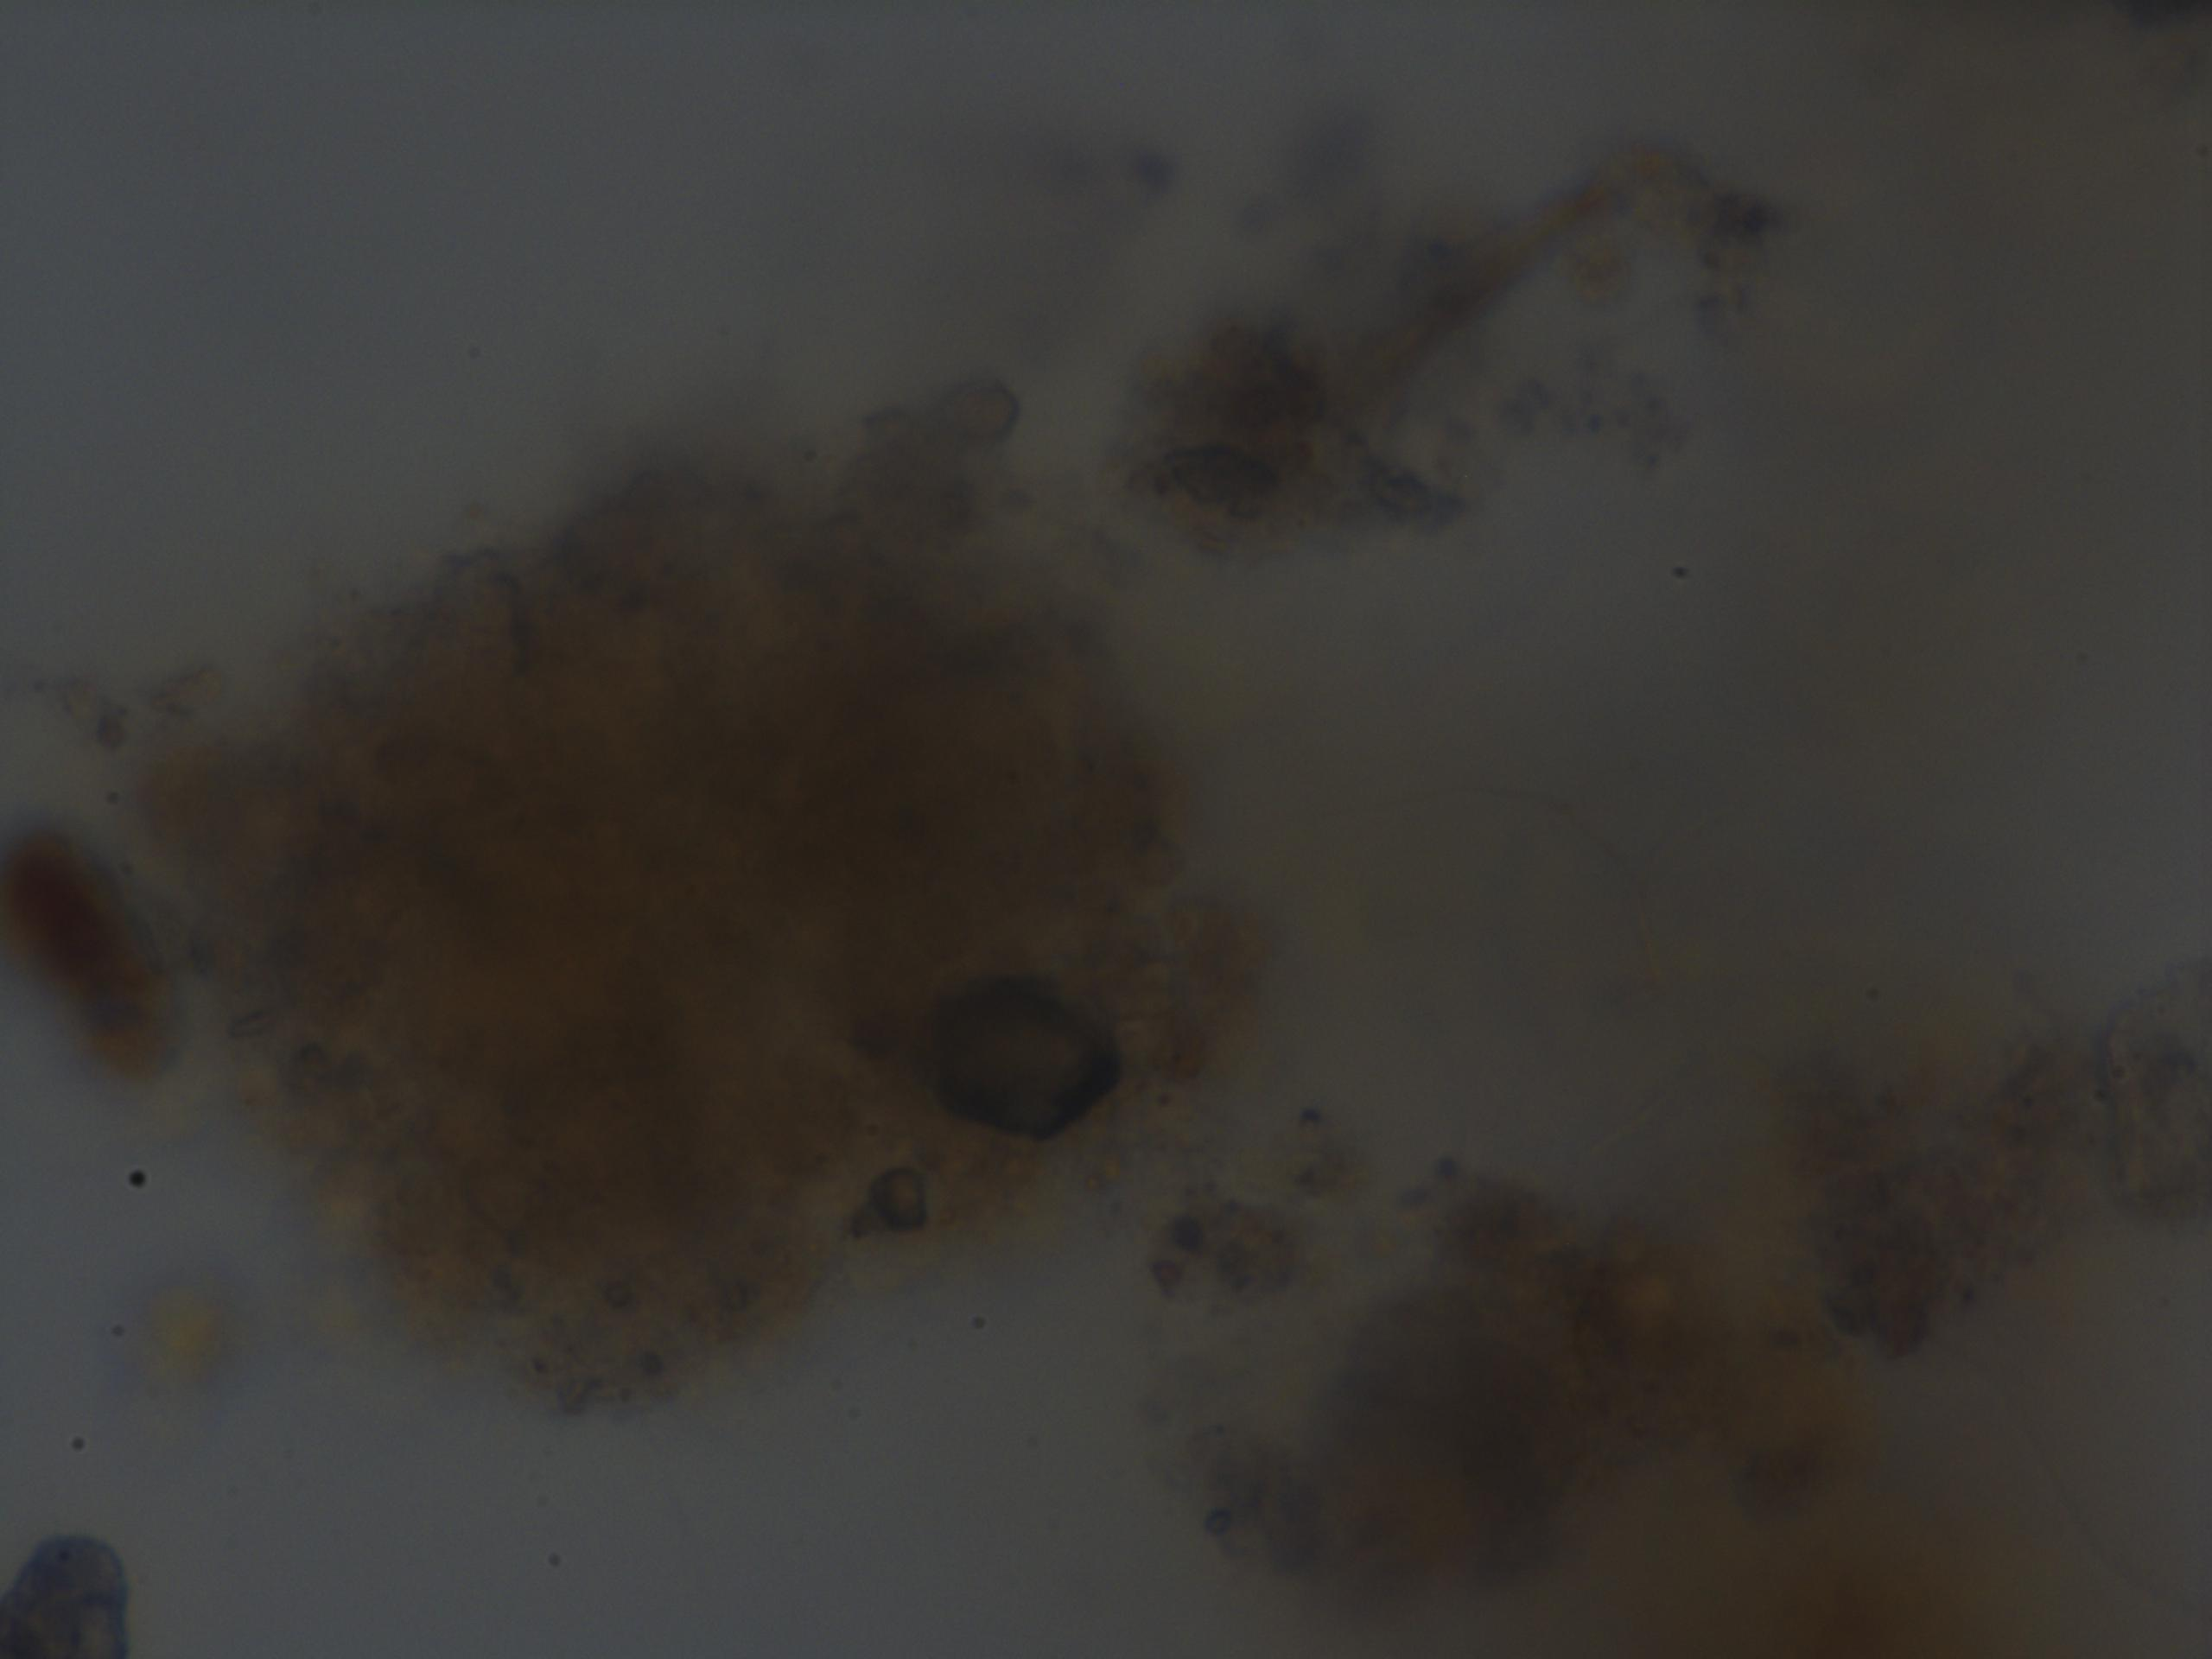spherical_floc: (148, 406, 1224, 1413)
